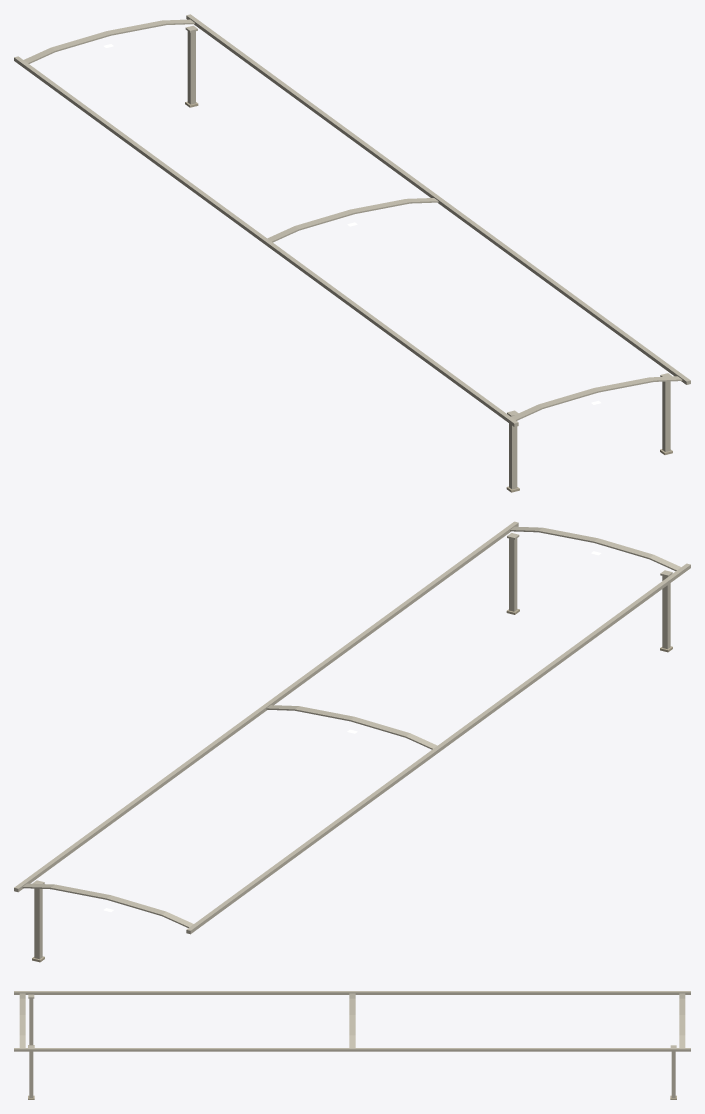
File: COURT_D09_SA_02__shell.glb
The picture shows the model from 3 angles, top to bottom: view 1: azimuth 30°, elevation 25°; view 2: azimuth 150°, elevation 25°; view 3: azimuth 270°, elevation 25°; orthographic projection. The views are drawn at different scales.
Parts seen in each view (by area): view 1: COURT_D09_SA_02__shell__ivory_enamel; view 2: COURT_D09_SA_02__shell__ivory_enamel; view 3: COURT_D09_SA_02__shell__ivory_enamel.
Boxes of the visible parts, box(x1,y1,x2,y2) form: COURT_D09_SA_02__shell__ivory_enamel: box(14, 14, 690, 489); COURT_D09_SA_02__shell__ivory_enamel: box(14, 521, 690, 959); COURT_D09_SA_02__shell__ivory_enamel: box(14, 991, 690, 1097).
Bounding box in the file's own units: 15.9 × 7.42 × 78.
Materials: 3 (2 with a texture image).
